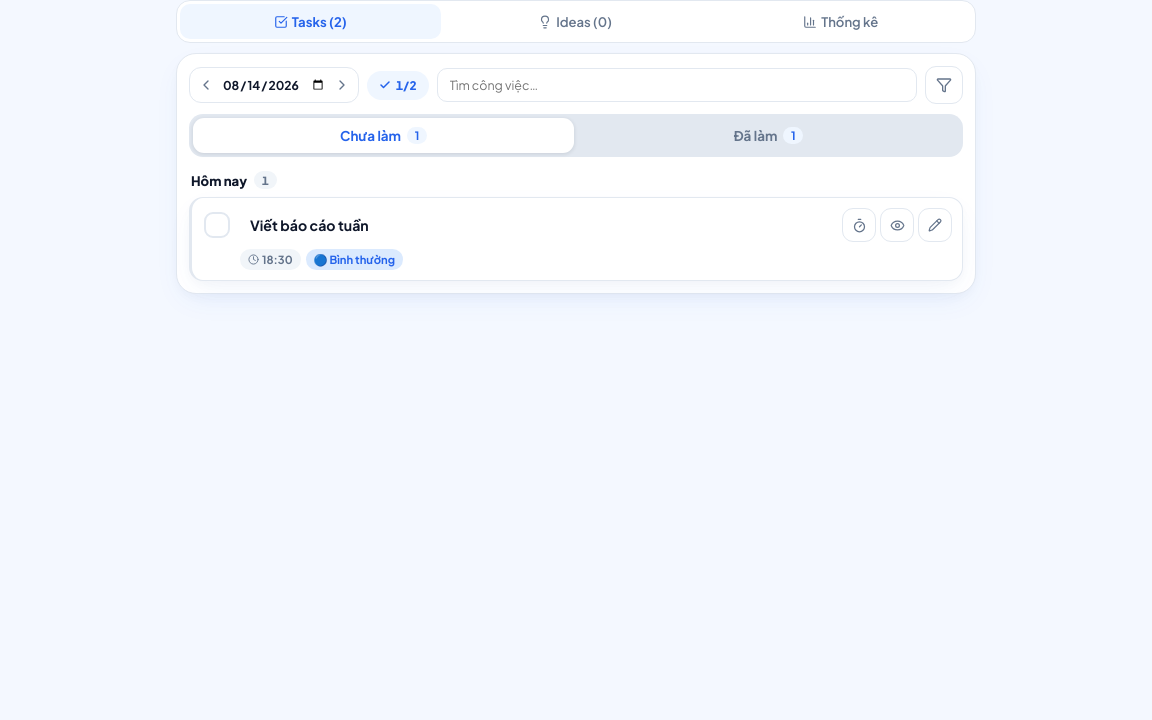
Test: TasksPage postpone › pushes the deadline, bumps the counters and logs one history row
Click the button named "Postpone task": (859,225) [842,208,876,242]
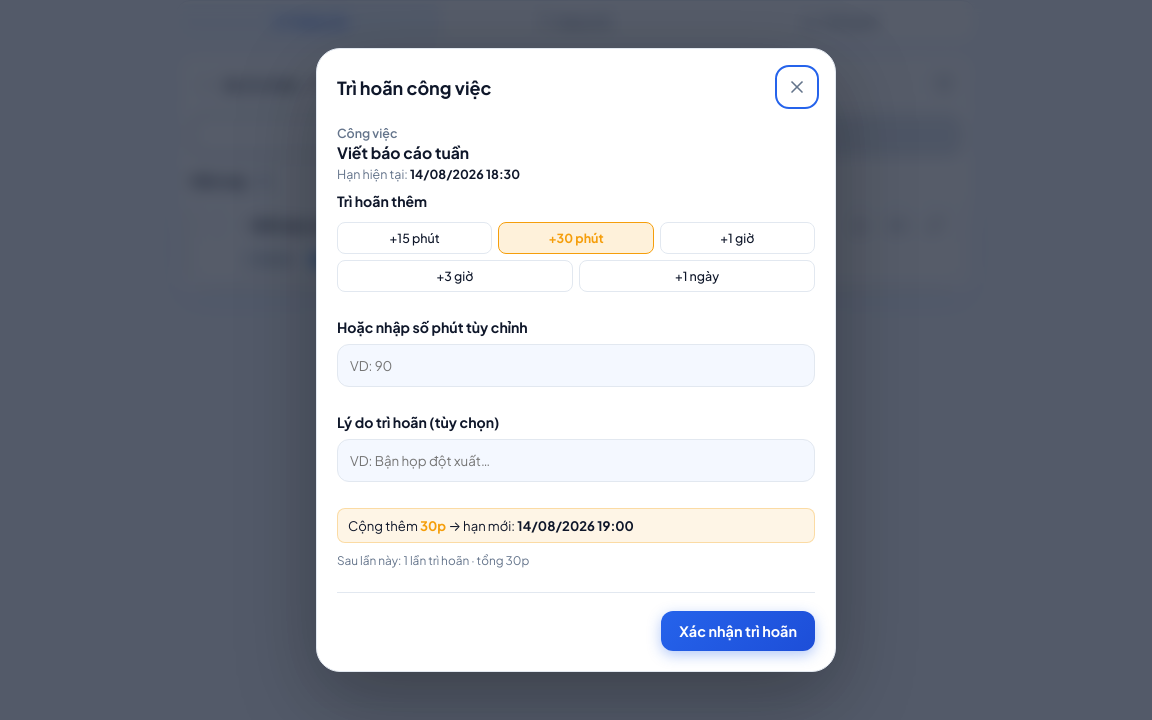
Check: the heading "Trì hoãn công việc" is shown, box [337,76,491,98]
Click the button "+30 phút": (576,238) [498,222,654,254]
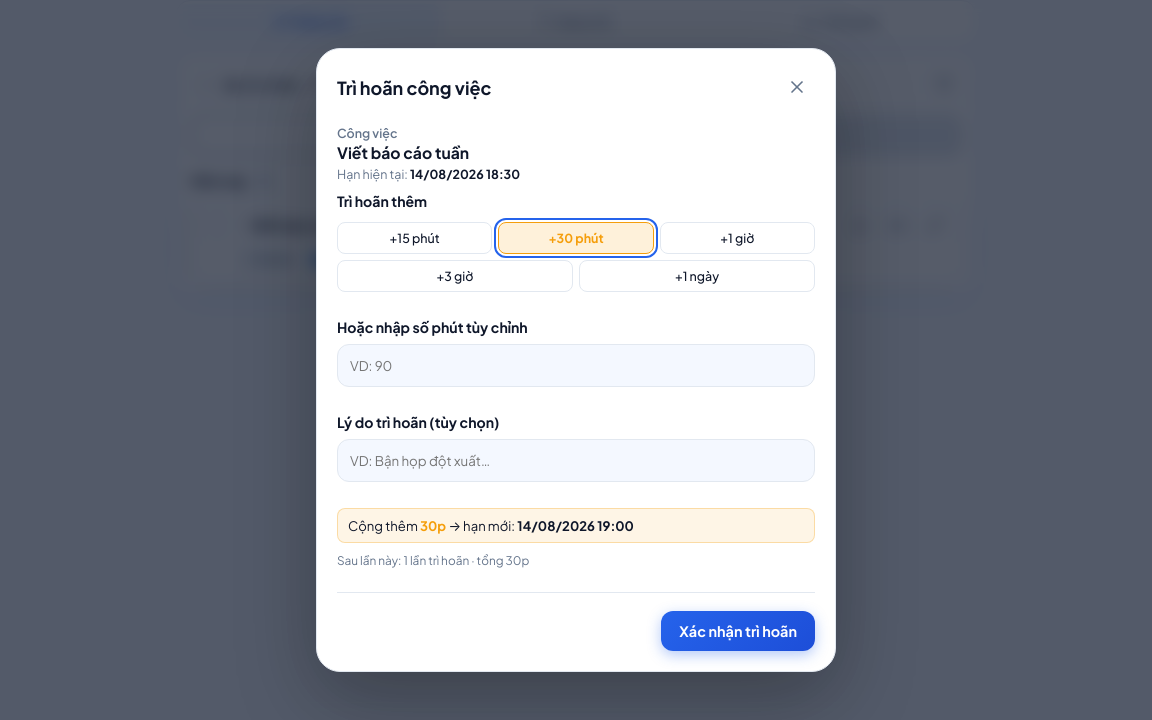
In the field with placeholder "VD: Bận họp đột xuất…": (576,460) [337,439,815,482], type "Bận họp"
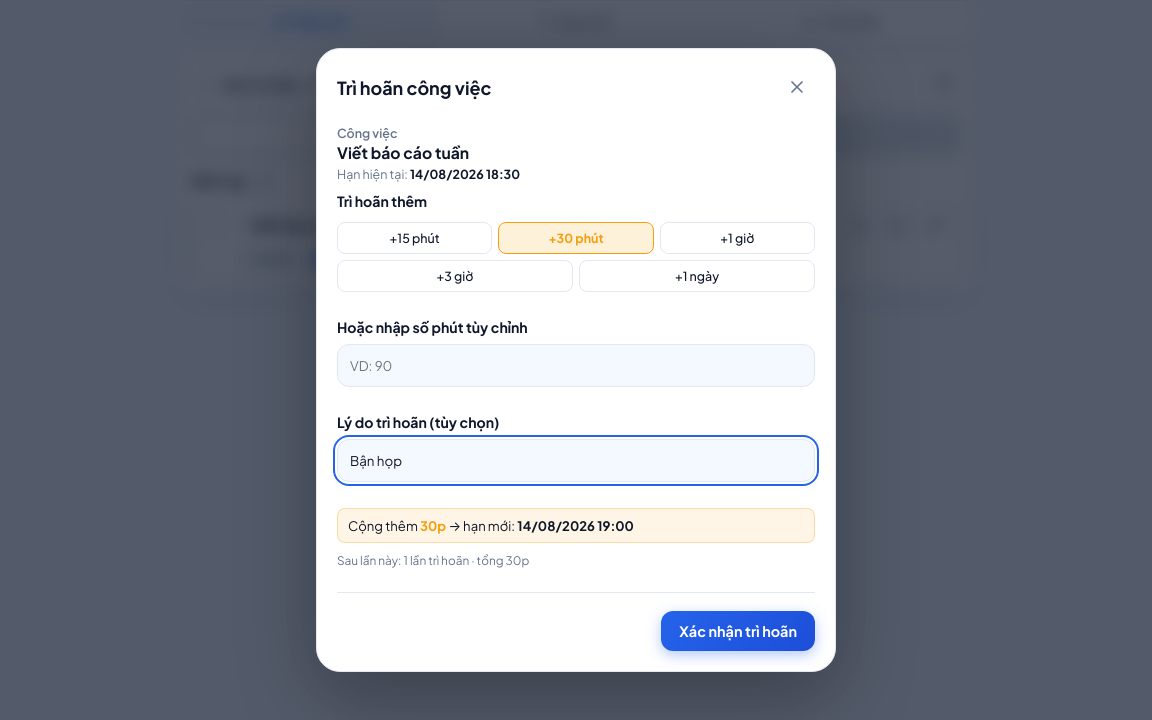
Click the button "Xác nhận trì hoãn": (738,631) [661,611,815,651]
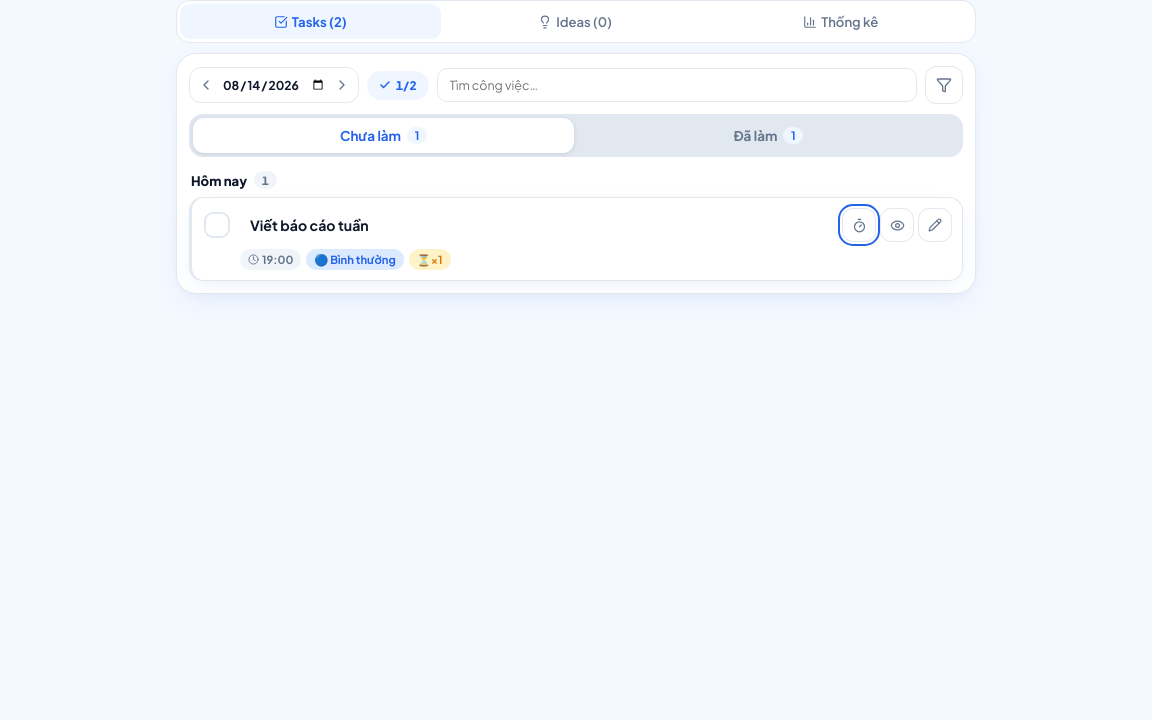
Check: the text "⏳×1" is shown, box [409,249,451,270]
